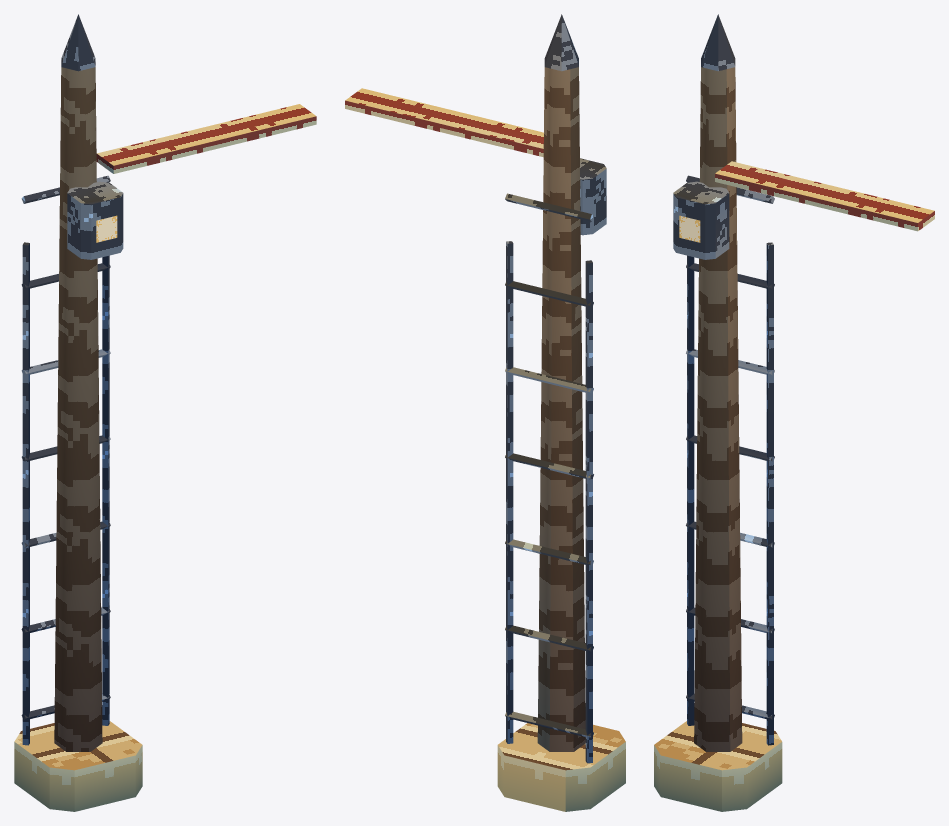
The model's file is wrail.signal.glb.
The picture shows the model from 3 angles, left to right: view 1: azimuth 30°, elevation 25°; view 2: azimuth 150°, elevation 25°; view 3: azimuth 330°, elevation 25°; orthographic projection.
Visible parts, largest first — view 1: kit_mast, kit_ladder, kit_base, kit_arm, kit_lamp, kit_cap; view 2: kit_mast, kit_ladder, kit_base, kit_arm, kit_lamp, kit_cap; view 3: kit_mast, kit_ladder, kit_base, kit_arm, kit_lamp, kit_cap.
Part boxes in pixels (x1,y1,x2,y2): kit_mast: (54, 67, 102, 751); kit_ladder: (21, 175, 110, 745); kit_base: (14, 721, 142, 811); kit_arm: (96, 104, 316, 173); kit_lamp: (67, 181, 123, 259); kit_cap: (61, 14, 95, 71); kit_mast: (537, 67, 585, 751); kit_ladder: (505, 193, 593, 763); kit_base: (497, 723, 625, 811); kit_arm: (345, 88, 543, 157); kit_lamp: (580, 158, 606, 235); kit_cap: (544, 14, 578, 71); kit_mast: (694, 67, 742, 751); kit_ladder: (686, 175, 774, 745); kit_base: (654, 721, 782, 811); kit_arm: (715, 161, 934, 231); kit_lamp: (673, 181, 729, 259); kit_cap: (701, 14, 735, 71).
Size of the model in its own units: 2 by 5.55 by 0.72.
5 materials, 5 textured.
